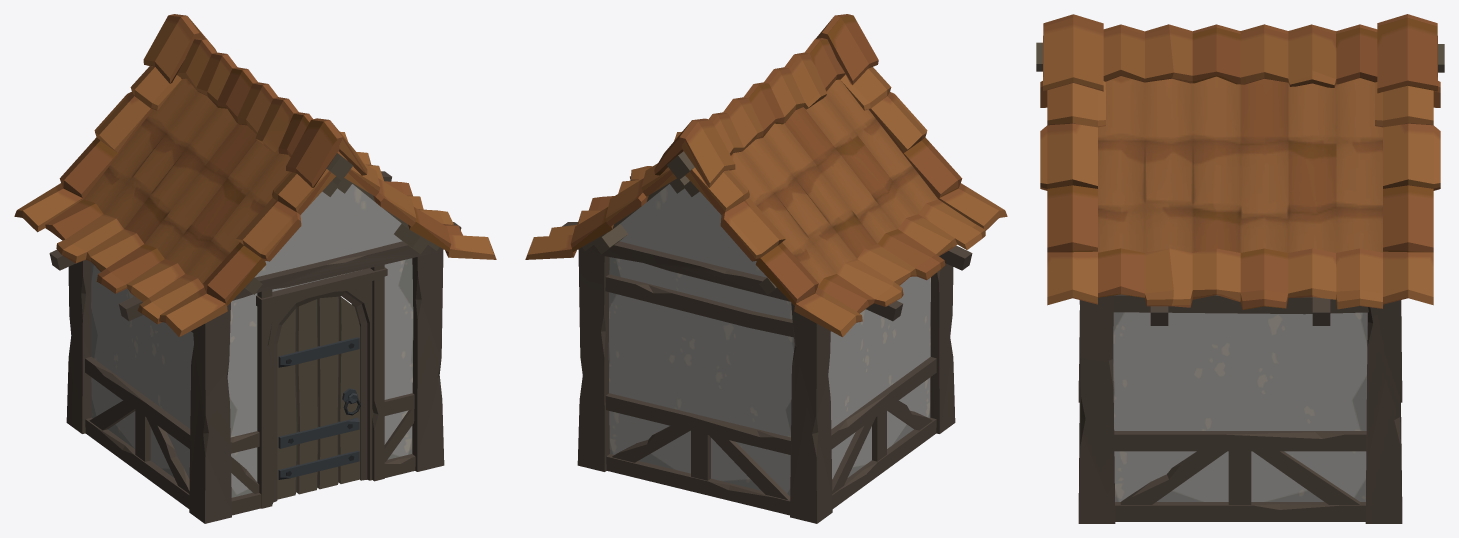
Rendered from SM_Bld_Preset_Outhouse_01_Optimized.glb.
3 renders of one model, left to right at view 1: azimuth 30°, elevation 25°; view 2: azimuth 150°, elevation 25°; view 3: azimuth 270°, elevation 25°, orthographic. The views are drawn at different scales.
Visible parts, largest first — view 1: SM_Bld_Preset_Outhouse_01_Optimized; view 2: SM_Bld_Preset_Outhouse_01_Optimized; view 3: SM_Bld_Preset_Outhouse_01_Optimized.
Boxes of the visible parts, box(x1,y1,x2,y2) form: SM_Bld_Preset_Outhouse_01_Optimized: box(14, 14, 496, 523); SM_Bld_Preset_Outhouse_01_Optimized: box(525, 14, 1007, 523); SM_Bld_Preset_Outhouse_01_Optimized: box(1036, 14, 1444, 523).
Bounding box in the file's own units: 3.95 × 4.23 × 3.56.
1 material, 1 textured.
